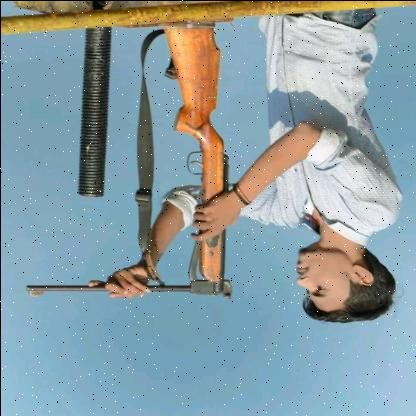rifle: (20, 16, 234, 300)
